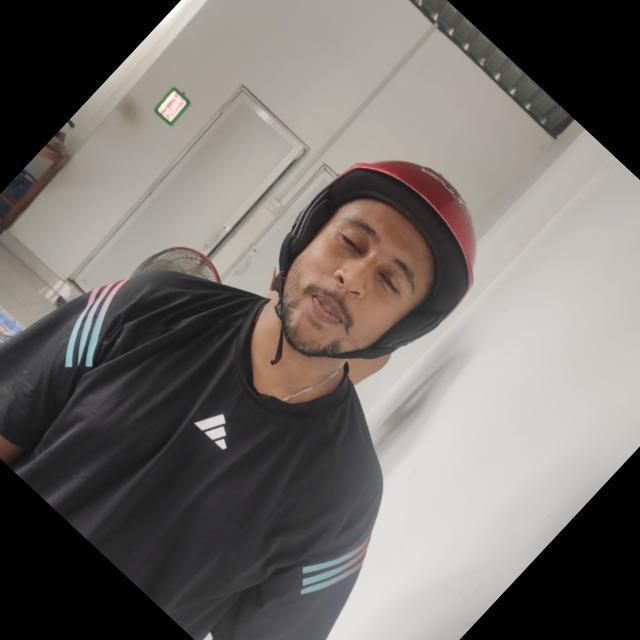WITH_HELMET: (227, 117, 523, 414)
